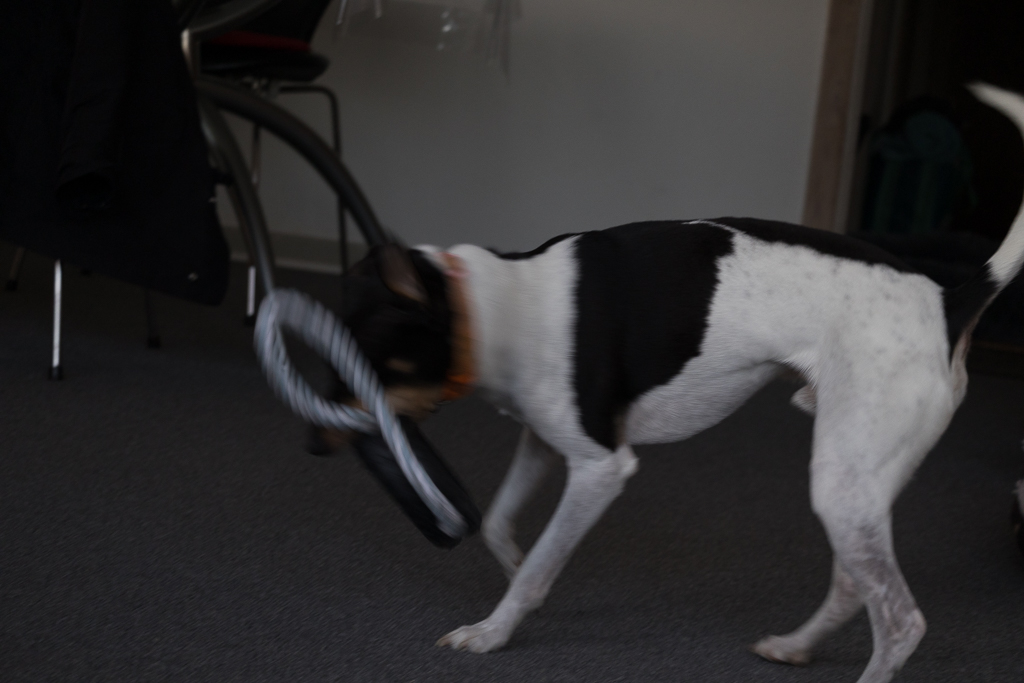Dog: (298, 67, 1024, 683)
